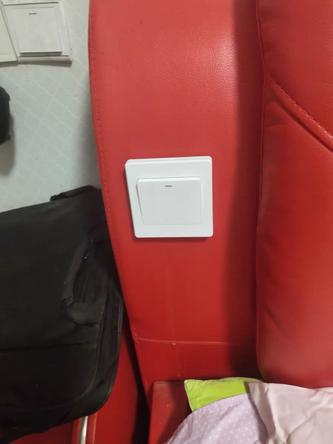switch: (134, 172, 206, 228)
